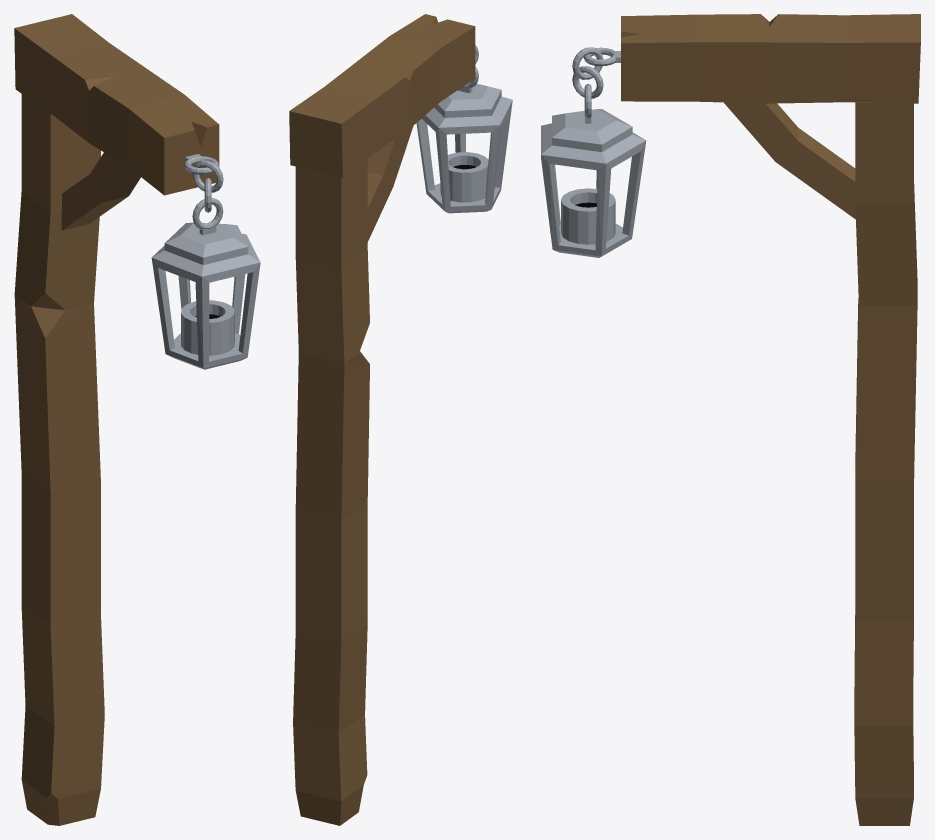
The model's file is Lantern 1.fbx.
The picture shows the model from 3 angles, left to right: view 1: azimuth 30°, elevation 25°; view 2: azimuth 150°, elevation 25°; view 3: azimuth 270°, elevation 25°; orthographic projection. The views are drawn at different scales.
Visible parts, largest first — view 1: Lantern 1; view 2: Lantern 1; view 3: Lantern 1.
Part boxes in pixels (x1,y1,x2,y2): Lantern 1: (14,14,260,825); Lantern 1: (289,14,512,825); Lantern 1: (541,14,920,825).
Bounding box in the file's own units: 0.6682 × 5.24 × 2.29.
